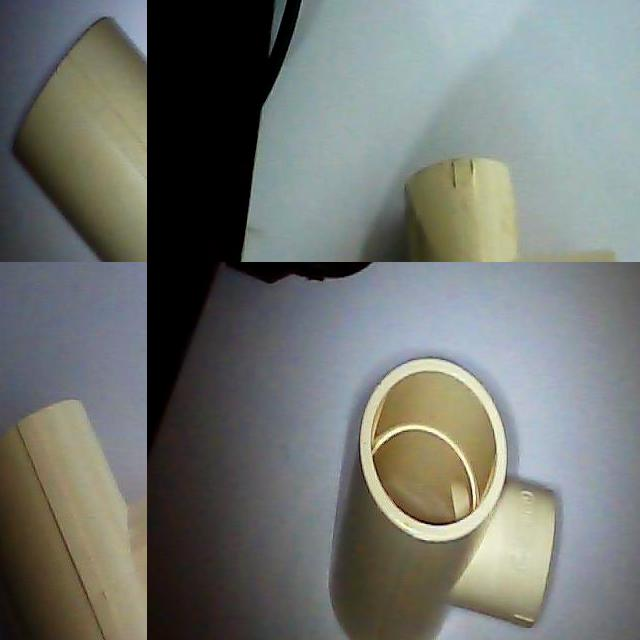T Joint: (327, 357, 562, 640), (0, 400, 147, 640), (12, 18, 147, 262)
